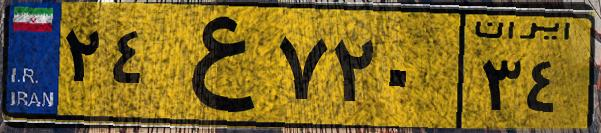0: (385, 28, 445, 110)
2: (330, 28, 385, 110), (57, 26, 110, 100)
3: (475, 38, 525, 113)
4: (525, 38, 570, 115), (110, 28, 158, 98)
7: (270, 28, 330, 110)
ع: (158, 12, 270, 120)
